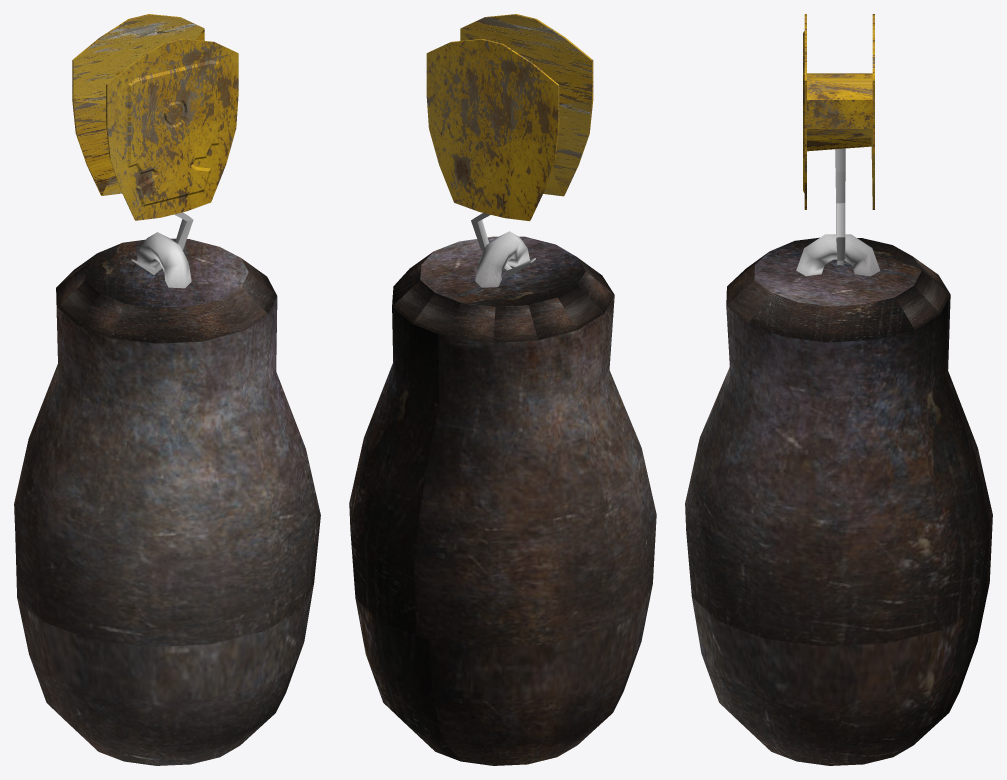
The model's file is bola.FBX.
3 renders of one model, left to right at view 1: azimuth 30°, elevation 25°; view 2: azimuth 150°, elevation 25°; view 3: azimuth 270°, elevation 25°, orthographic.
Parts seen in each view (by area): view 1: GanchoArriba; view 2: GanchoArriba; view 3: GanchoArriba.
Part boxes in pixels (box(x1,y1,x2,y2)): GanchoArriba: box(14, 14, 320, 765); GanchoArriba: box(349, 14, 656, 765); GanchoArriba: box(685, 14, 992, 765).
Size of the model in its own units: 110 by 287 by 110.
